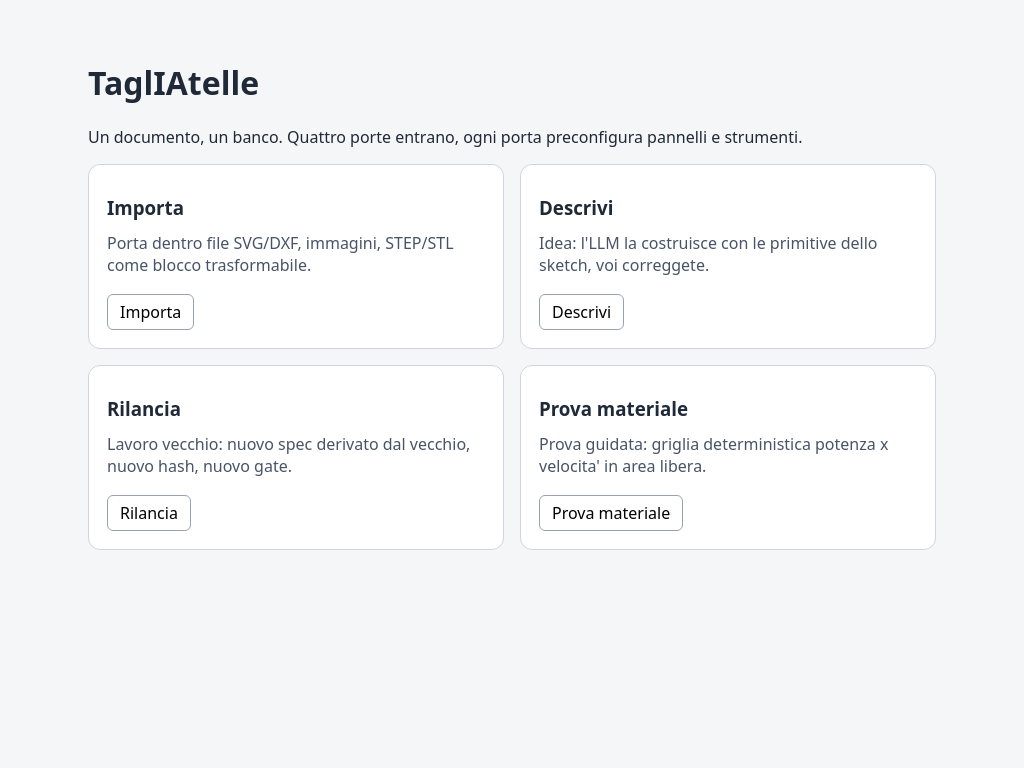
Test: four doors -> one workbench › door "Importa" opens the workbench in mode import, preselecting its object
Expected: the element with test id "door-import" is shown, [88,164,504,349]
Expected: the heading "Importa" is shown, [107,195,184,220]
# navigate: the door drives the single workbench with its mode
Click the button "Importa" at (151, 312), box [107,294,194,330]
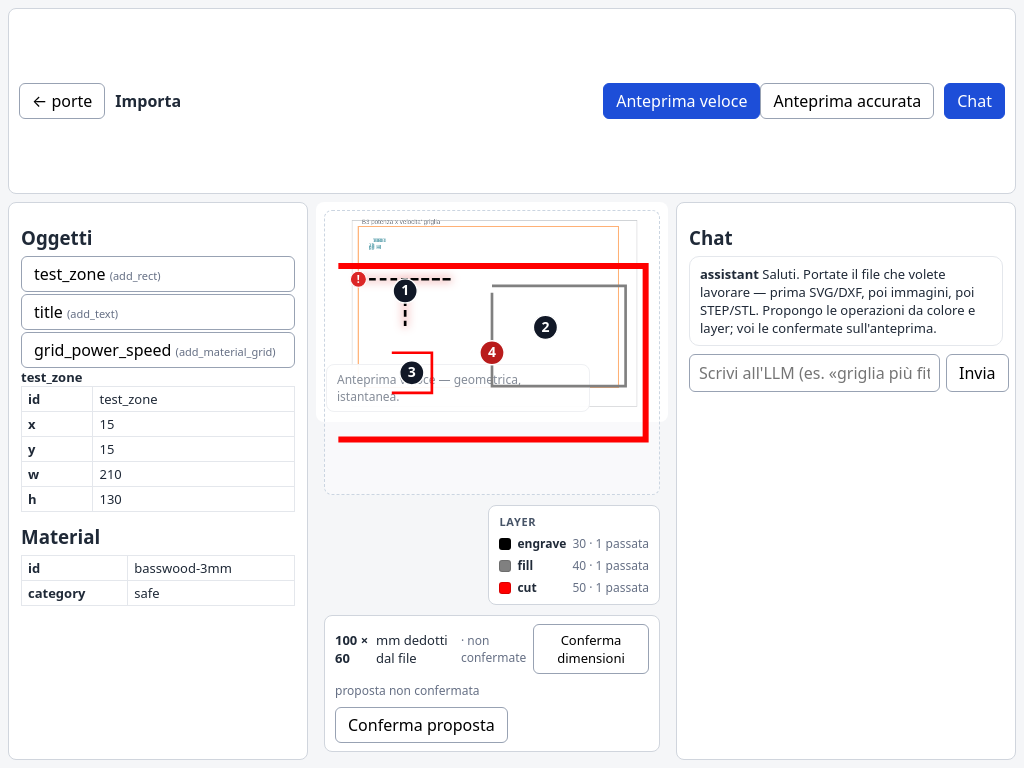
Now the drawing with test id "canvas" is shown, box [316,202,668,422]
Now the list with test id "chat-log" is shown, box [689,256,1003,346]
Now the element with test id "properties-panel" that starts with "Oggetti" is shown, box [21,224,295,606]
